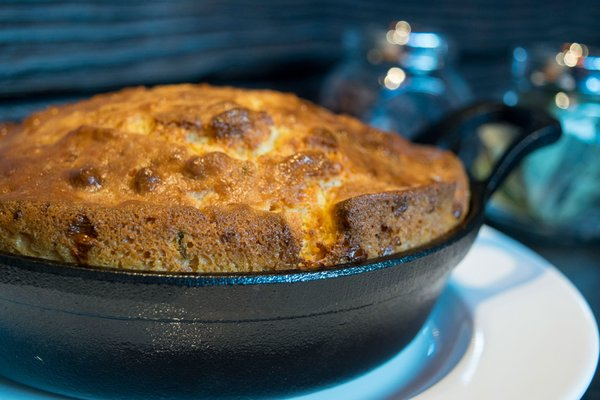sandwich: (1, 81, 472, 275)
sushi: (0, 82, 457, 274)
